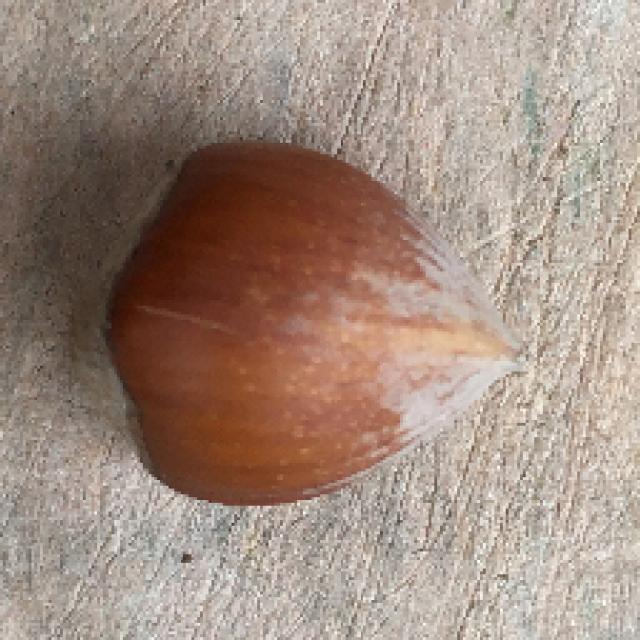qualityHazelnut: (86, 134, 524, 518)
